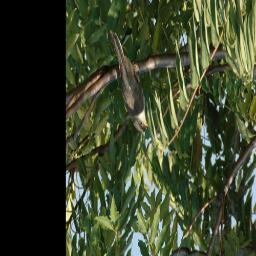Cuckoo: (107, 27, 151, 133)
